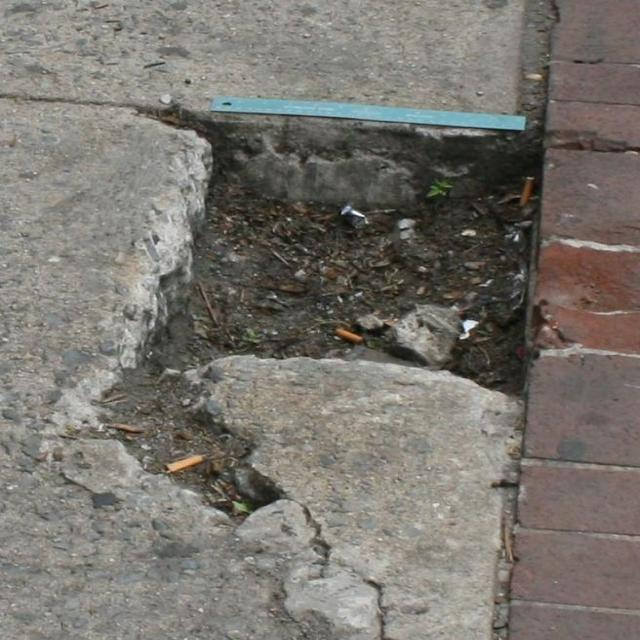hole: (104, 32, 566, 525)
